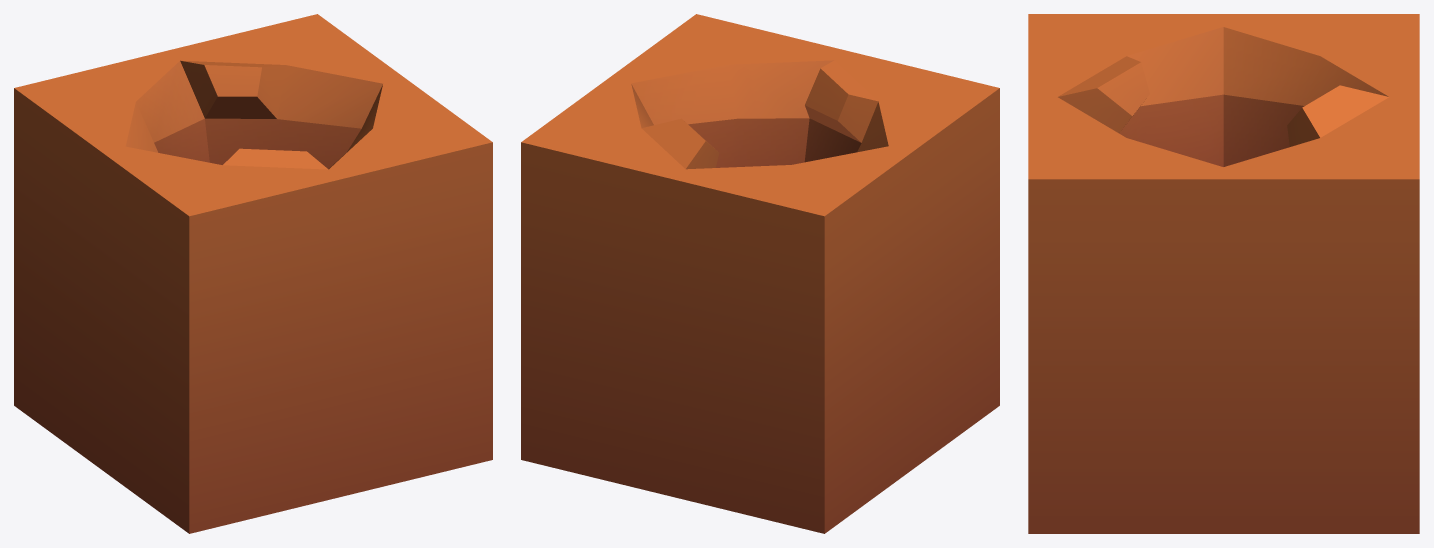
File: kaykit_terrain_mining_v01.glb
3 views of the same model, side by side, from view 1: azimuth 30°, elevation 25°; view 2: azimuth 150°, elevation 25°; view 3: azimuth 270°, elevation 25° (orthographic). The views are drawn at different scales.
Parts seen in each view (by area): view 1: terrain_mining; view 2: terrain_mining; view 3: terrain_mining.
Part boxes in pixels (x1,y1,x2,y2): terrain_mining: (14, 14, 492, 533); terrain_mining: (521, 14, 999, 533); terrain_mining: (1028, 14, 1419, 533).
Size of the model in its own units: 2 by 2.07 by 2.
1 material, 1 textured.
